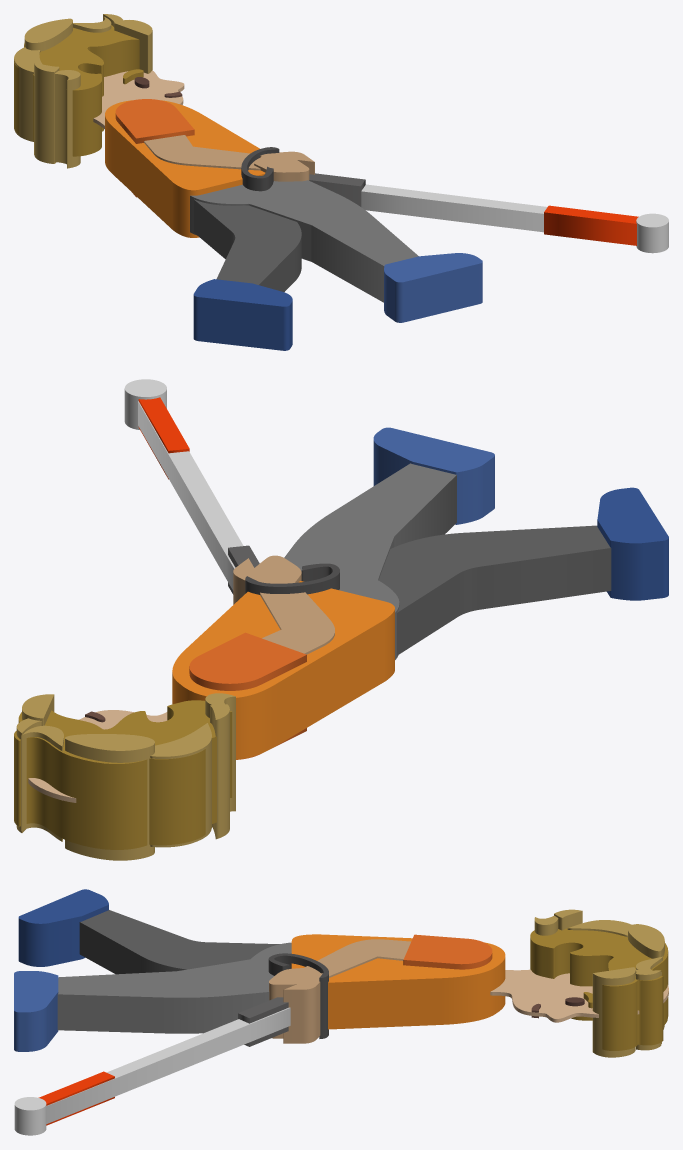
Rendered from emoji_u1f9d1_1f3fc_200d_1f9af_200d_27a1.glb.
The picture shows the model from 3 angles, top to bottom: view 1: azimuth 30°, elevation 25°; view 2: azimuth 150°, elevation 25°; view 3: azimuth 270°, elevation 25°; orthographic projection. The views are drawn at different scales.
Parts seen in each view (by area): view 1: emoji_u1f9d1_1f3fc_200d_1f9af_200d_27a1; view 2: emoji_u1f9d1_1f3fc_200d_1f9af_200d_27a1; view 3: emoji_u1f9d1_1f3fc_200d_1f9af_200d_27a1.
Boxes of the visible parts, <box> form: emoji_u1f9d1_1f3fc_200d_1f9af_200d_27a1: <box>14,14,668,350</box>; emoji_u1f9d1_1f3fc_200d_1f9af_200d_27a1: <box>14,379,668,860</box>; emoji_u1f9d1_1f3fc_200d_1f9af_200d_27a1: <box>14,889,668,1135</box>.
Bounding box in the file's own units: 0.0253 × 0.005 × 0.033.
